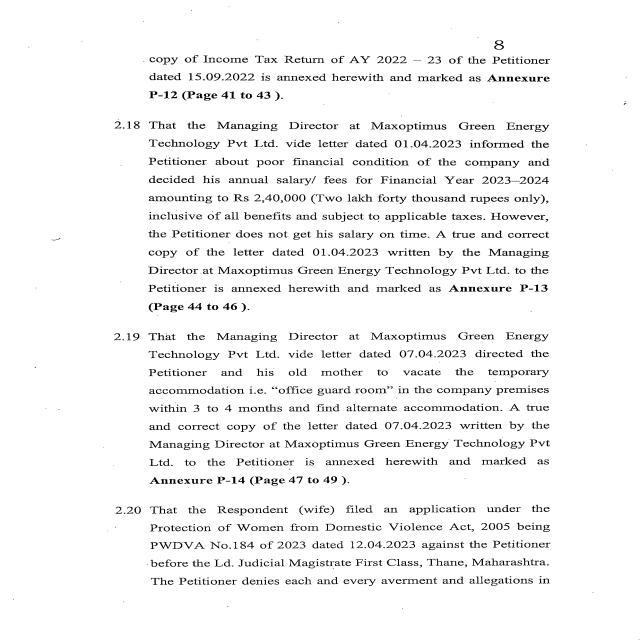page-number: (387, 0, 640, 54)
